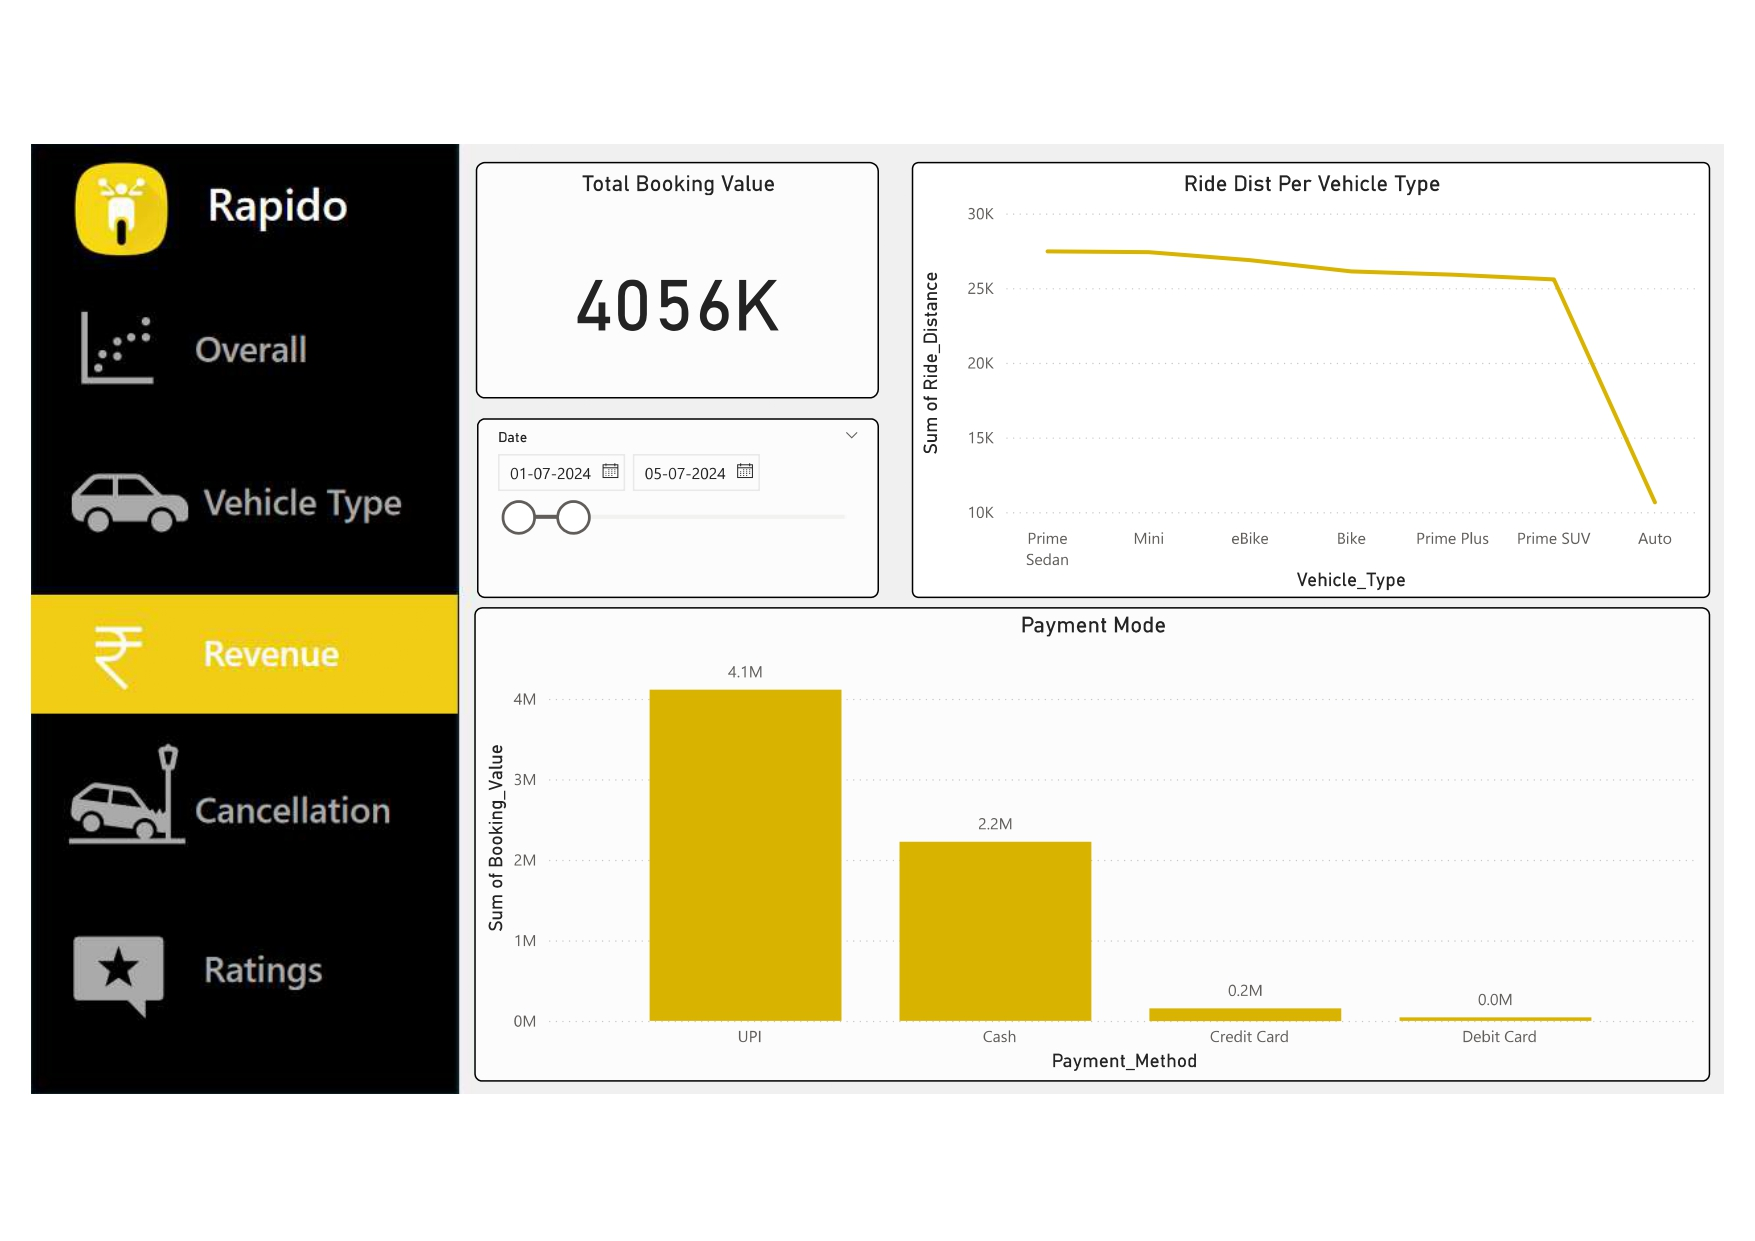

What the dashboard file says about the page in this screenshot:
{"tool":"powerbi","page":{"name":"Revenue","canvas":[1280,720],"ordinal":2},"visuals":[{"type":"columnChart","title":" Payment Mode","fields":{"Category":["July.Payment_Method"],"Y":["Sum(July.Booking_Value)"]},"box":[334.6,350.2,935.7,358.9],"z":0},{"type":"card","title":"Total Booking Value","fields":{"Values":["Sum(July.Booking_Value)"]},"box":[335.6,12.6,305.4,179],"z":1000},{"type":"lineChart","title":"Ride Dist Per Vehicle Type","fields":{"Y":["Sum(July.Ride_Distance)"],"Category":["July.Vehicle_Type"]},"box":[666.3,12.6,604,330.7],"z":2000},{"type":"slicer","fields":{"Values":["July.Date"]},"box":[336.5,207.2,304.4,136.2],"z":3000},{"type":"actionButton","box":[0,445.9,324.4,91.6],"z":4000},{"type":"actionButton","box":[0,118.5,324.6,78.3],"z":5000},{"type":"actionButton","box":[0,568.9,324.6,91.7],"z":5001},{"type":"actionButton","box":[0,342.9,324.4,88.6],"z":5002}]}

Visuals, with their boxes on the page's 1280x720 design canvas (x1, y1, x2, y2). These are canvas units, not pixel positions in the 1755x1241 screenshot, which may show the page scaled, cropped or inside an application window:
" Payment Mode" columnChart: <bbox>335, 350, 1270, 709</bbox>
"Total Booking Value" card: <bbox>336, 13, 641, 192</bbox>
"Ride Dist Per Vehicle Type" lineChart: <bbox>666, 13, 1270, 343</bbox>
slicer - July.Date: <bbox>336, 207, 641, 343</bbox>
actionButton: <bbox>0, 446, 324, 538</bbox>
actionButton: <bbox>0, 118, 325, 197</bbox>
actionButton: <bbox>0, 569, 325, 661</bbox>
actionButton: <bbox>0, 343, 324, 432</bbox>
